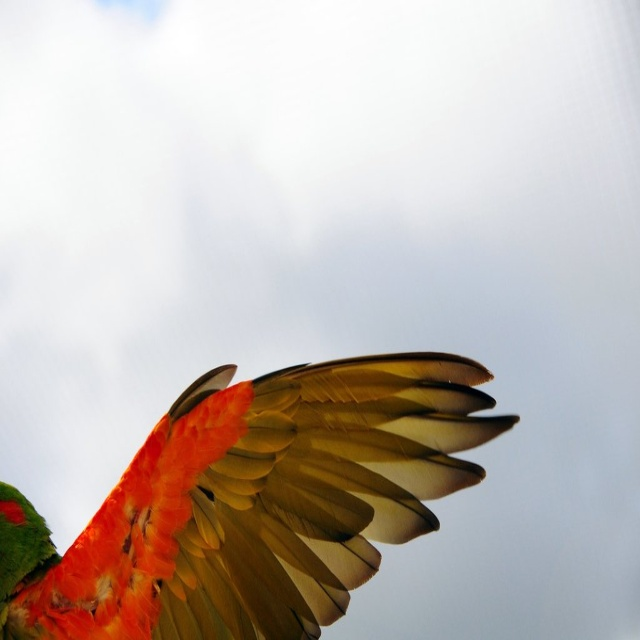Parrot: (0, 351, 532, 632)
